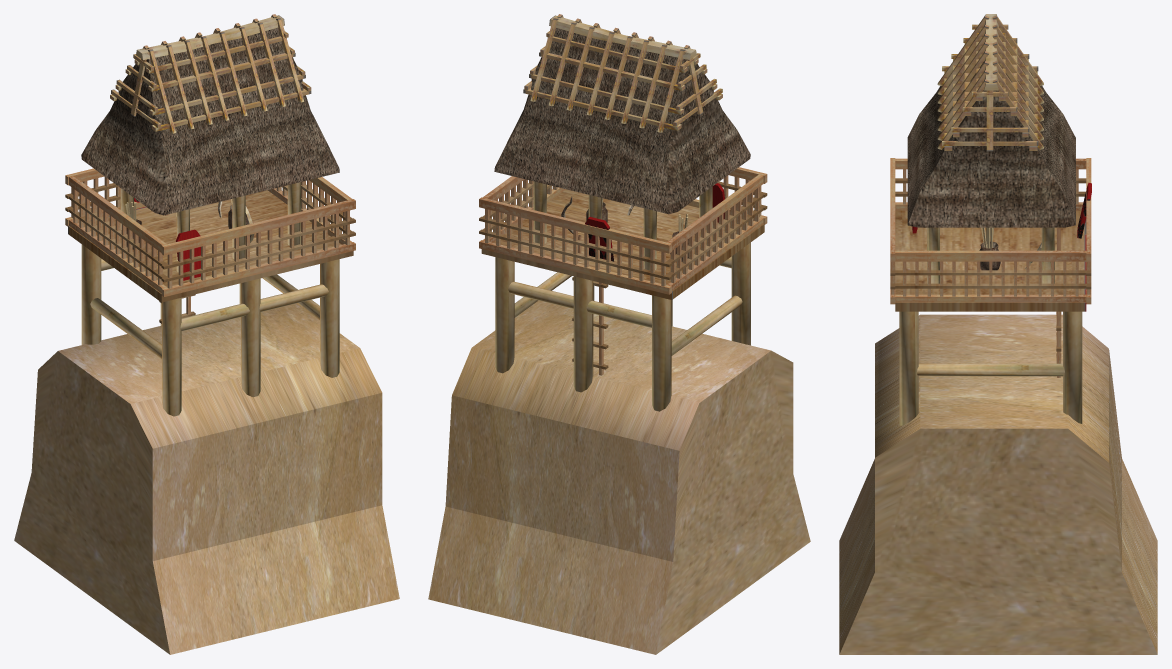
The model's file is yayoi_wall_tower.dae.
The picture shows the model from 3 angles, left to right: view 1: azimuth 30°, elevation 25°; view 2: azimuth 150°, elevation 25°; view 3: azimuth 270°, elevation 25°; orthographic projection. The views are drawn at different scales.
Visible parts, largest first — view 1: wall_tower; view 2: wall_tower; view 3: wall_tower.
Boxes of the visible parts, left/top/right/bottom form: wall_tower: left=14, top=14, right=399, bottom=654; wall_tower: left=428, top=14, right=810, bottom=654; wall_tower: left=839, top=14, right=1157, bottom=654.
Size of the model in its own units: 10.22 by 12.03 by 22.97.
